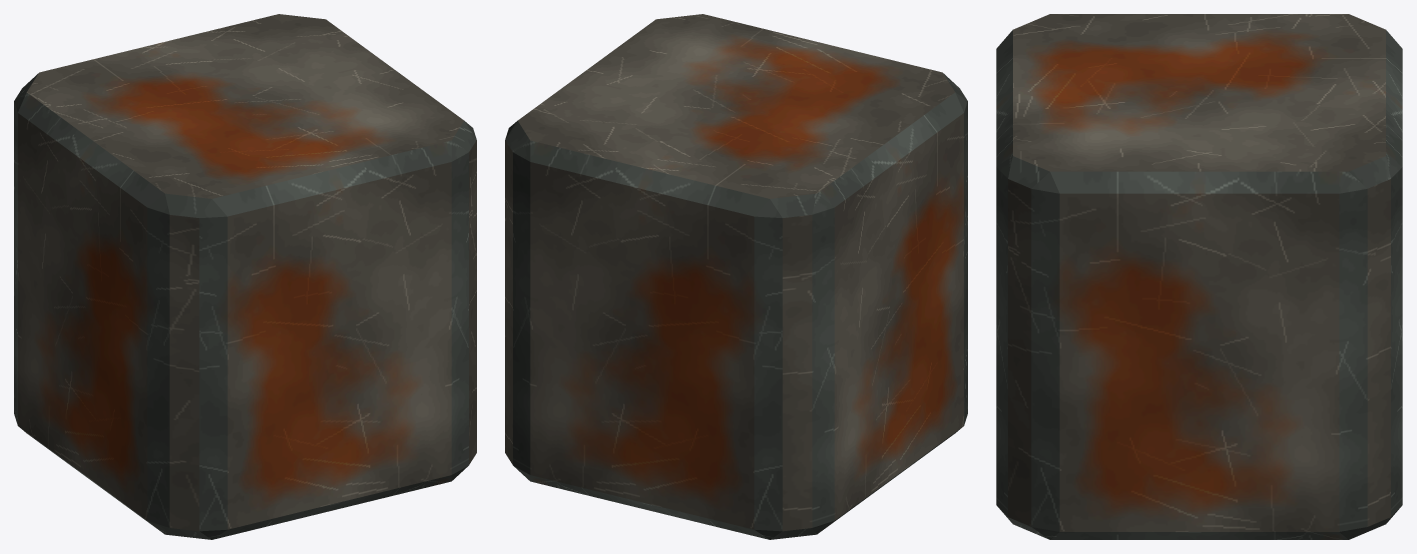
File: R4B_OctColumn_LOD1.glb
3 renders of one model, left to right at view 1: azimuth 30°, elevation 25°; view 2: azimuth 150°, elevation 25°; view 3: azimuth 270°, elevation 25°, orthographic. The views are drawn at different scales.
Visible parts, largest first — view 1: R4B_OctColumn_LOD1; view 2: R4B_OctColumn_LOD1; view 3: R4B_OctColumn_LOD1.
Part boxes in pixels (left/top/right/bottom): R4B_OctColumn_LOD1: left=14, top=14, right=476, bottom=539; R4B_OctColumn_LOD1: left=505, top=14, right=967, bottom=539; R4B_OctColumn_LOD1: left=996, top=14, right=1402, bottom=539.
Bounding box in the file's own units: 0.52 × 0.52 × 0.52.
2 materials, 2 textured.
